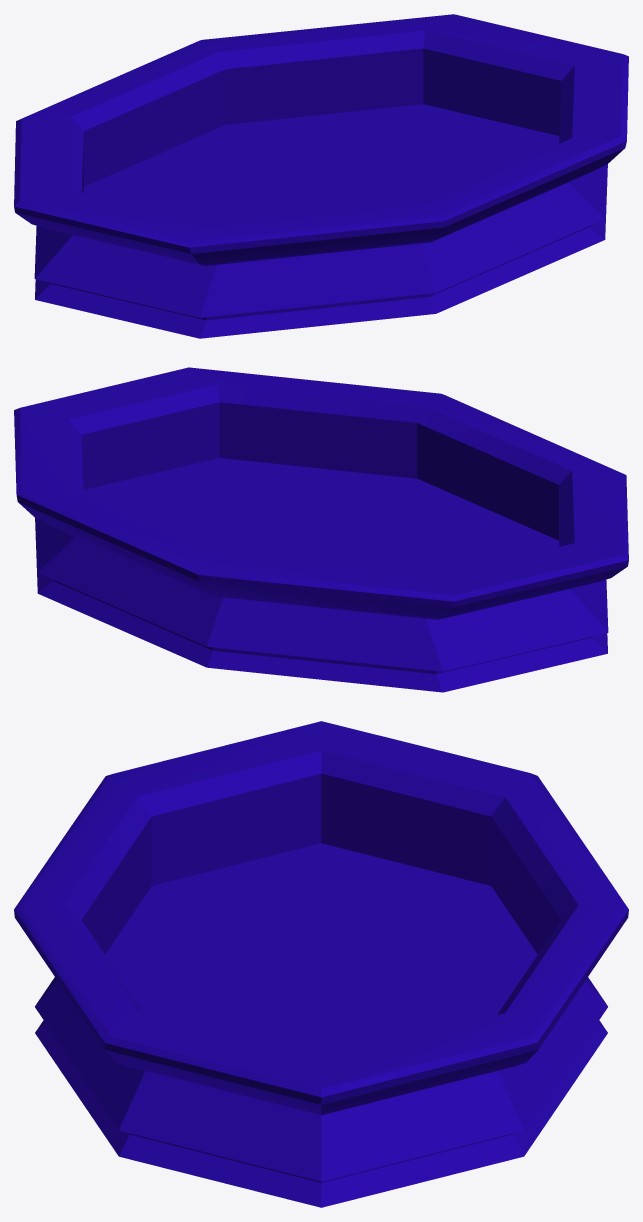
The model's file is Fountain_Body.fbx.
The picture shows the model from 3 angles, top to bottom: view 1: azimuth 30°, elevation 25°; view 2: azimuth 150°, elevation 25°; view 3: azimuth 270°, elevation 25°; orthographic projection. The views are drawn at different scales.
Parts seen in each view (by area): view 1: Fountain; view 2: Fountain; view 3: Fountain.
Part boxes in pixels (x1=…): Fountain: x1=14, y1=14, x2=628, y2=338; Fountain: x1=14, y1=367, x2=628, y2=692; Fountain: x1=14, y1=721, x2=628, y2=1207.
Bounding box in the file's own units: 0.0426 × 0.00678 × 0.0295.
